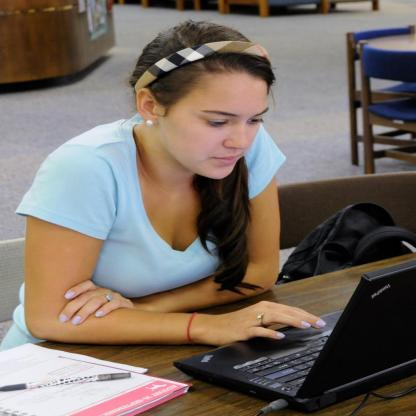board: (174, 258, 416, 410)
